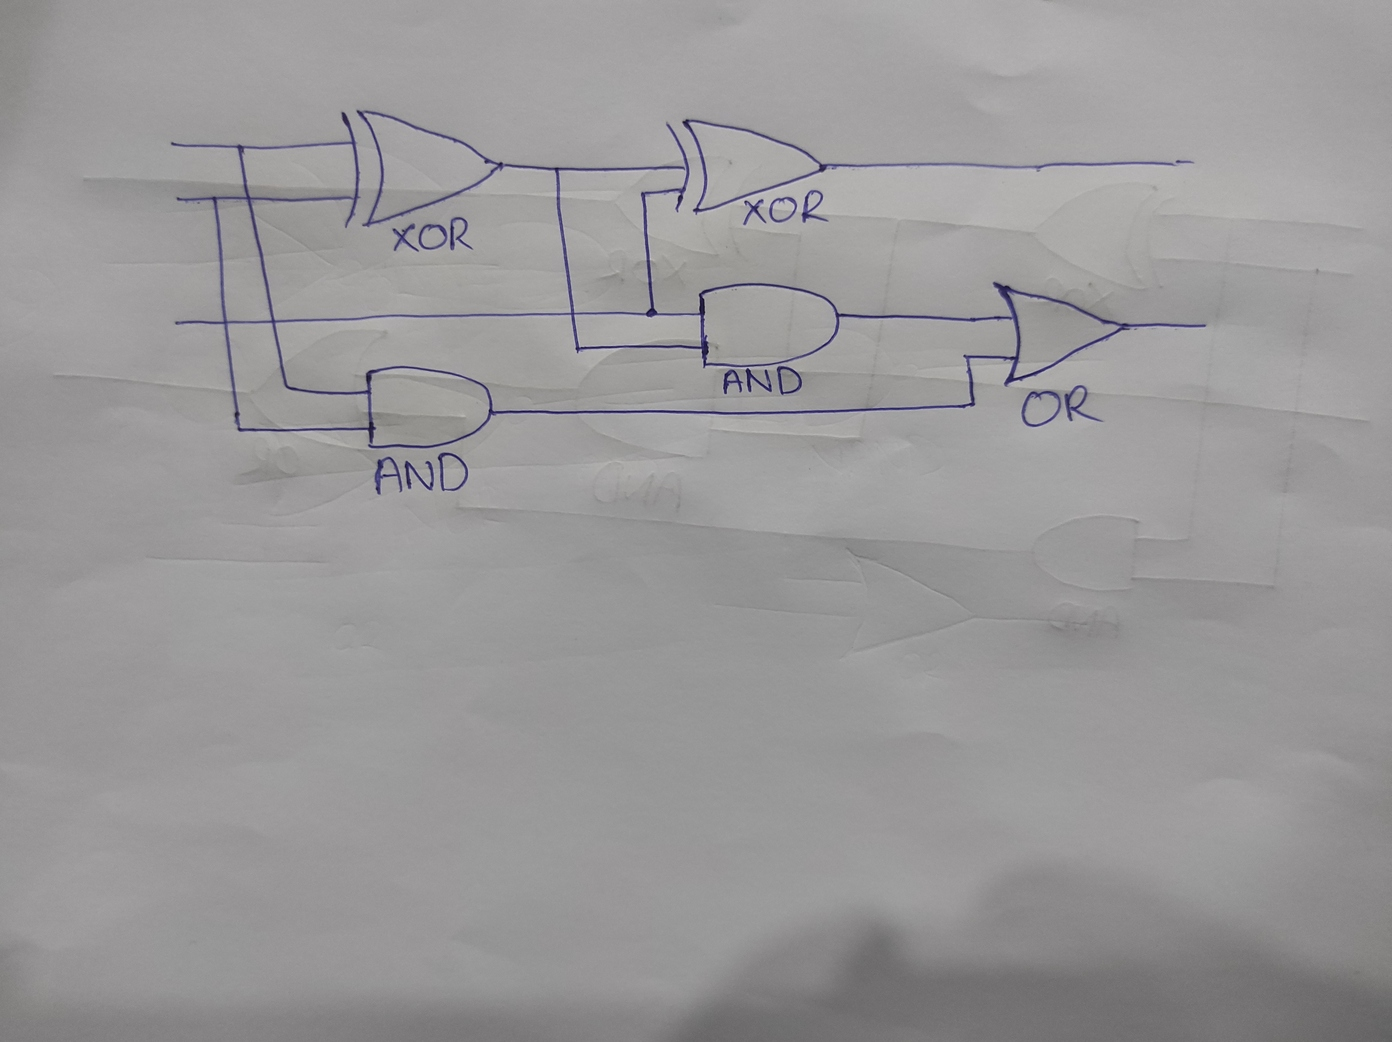and: (695, 280, 844, 369), (363, 363, 496, 451)
crossover: (217, 314, 236, 331), (564, 305, 584, 321), (265, 314, 282, 328), (239, 190, 256, 202)
junction: (955, 348, 977, 368), (959, 394, 982, 413), (230, 137, 250, 157), (228, 419, 250, 437), (277, 378, 297, 396), (548, 160, 565, 177), (643, 304, 661, 321), (568, 340, 587, 356), (208, 192, 225, 206), (638, 187, 650, 201)
or: (990, 279, 1132, 386)
terminal: (1168, 153, 1202, 172), (164, 137, 182, 154), (1194, 316, 1213, 333), (166, 315, 185, 332), (171, 192, 186, 205)
text: (370, 453, 474, 500), (1016, 384, 1104, 427), (717, 361, 807, 397), (741, 190, 830, 227), (395, 215, 474, 254)
xor: (334, 107, 506, 231), (663, 111, 826, 219)
